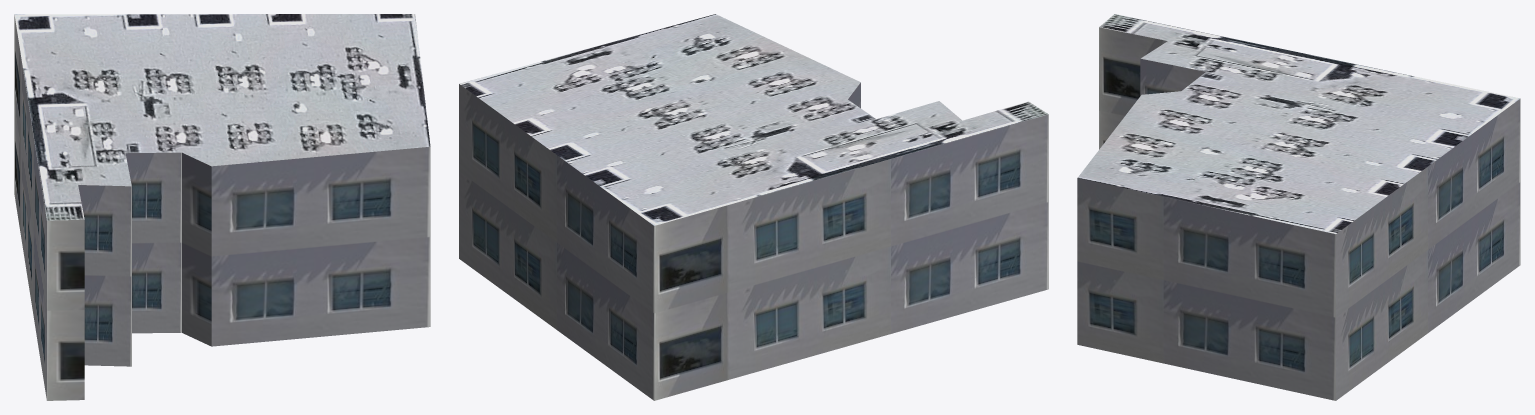
Rendered from ResTex__897.fbx.
3 renders of one model, left to right at view 1: azimuth 30°, elevation 25°; view 2: azimuth 150°, elevation 25°; view 3: azimuth 270°, elevation 25°, orthographic. The views are drawn at different scales.
Visible parts, largest first — view 1: CityEngineMaterial_10_m, CityEngineMaterial_4_m; view 2: CityEngineMaterial_10_m, CityEngineMaterial_4_m; view 3: CityEngineMaterial_10_m, CityEngineMaterial_4_m.
Boxes of the visible parts, x1,y1,x2,y2 form: CityEngineMaterial_10_m: (14, 15, 430, 400); CityEngineMaterial_4_m: (14, 14, 430, 220); CityEngineMaterial_10_m: (459, 82, 1048, 400); CityEngineMaterial_4_m: (459, 14, 1048, 225); CityEngineMaterial_10_m: (1077, 27, 1520, 400); CityEngineMaterial_4_m: (1077, 14, 1520, 233).
Size of the model in its own units: 17 by 6 by 14.46.
Materials: 2 (2 with a texture image).
